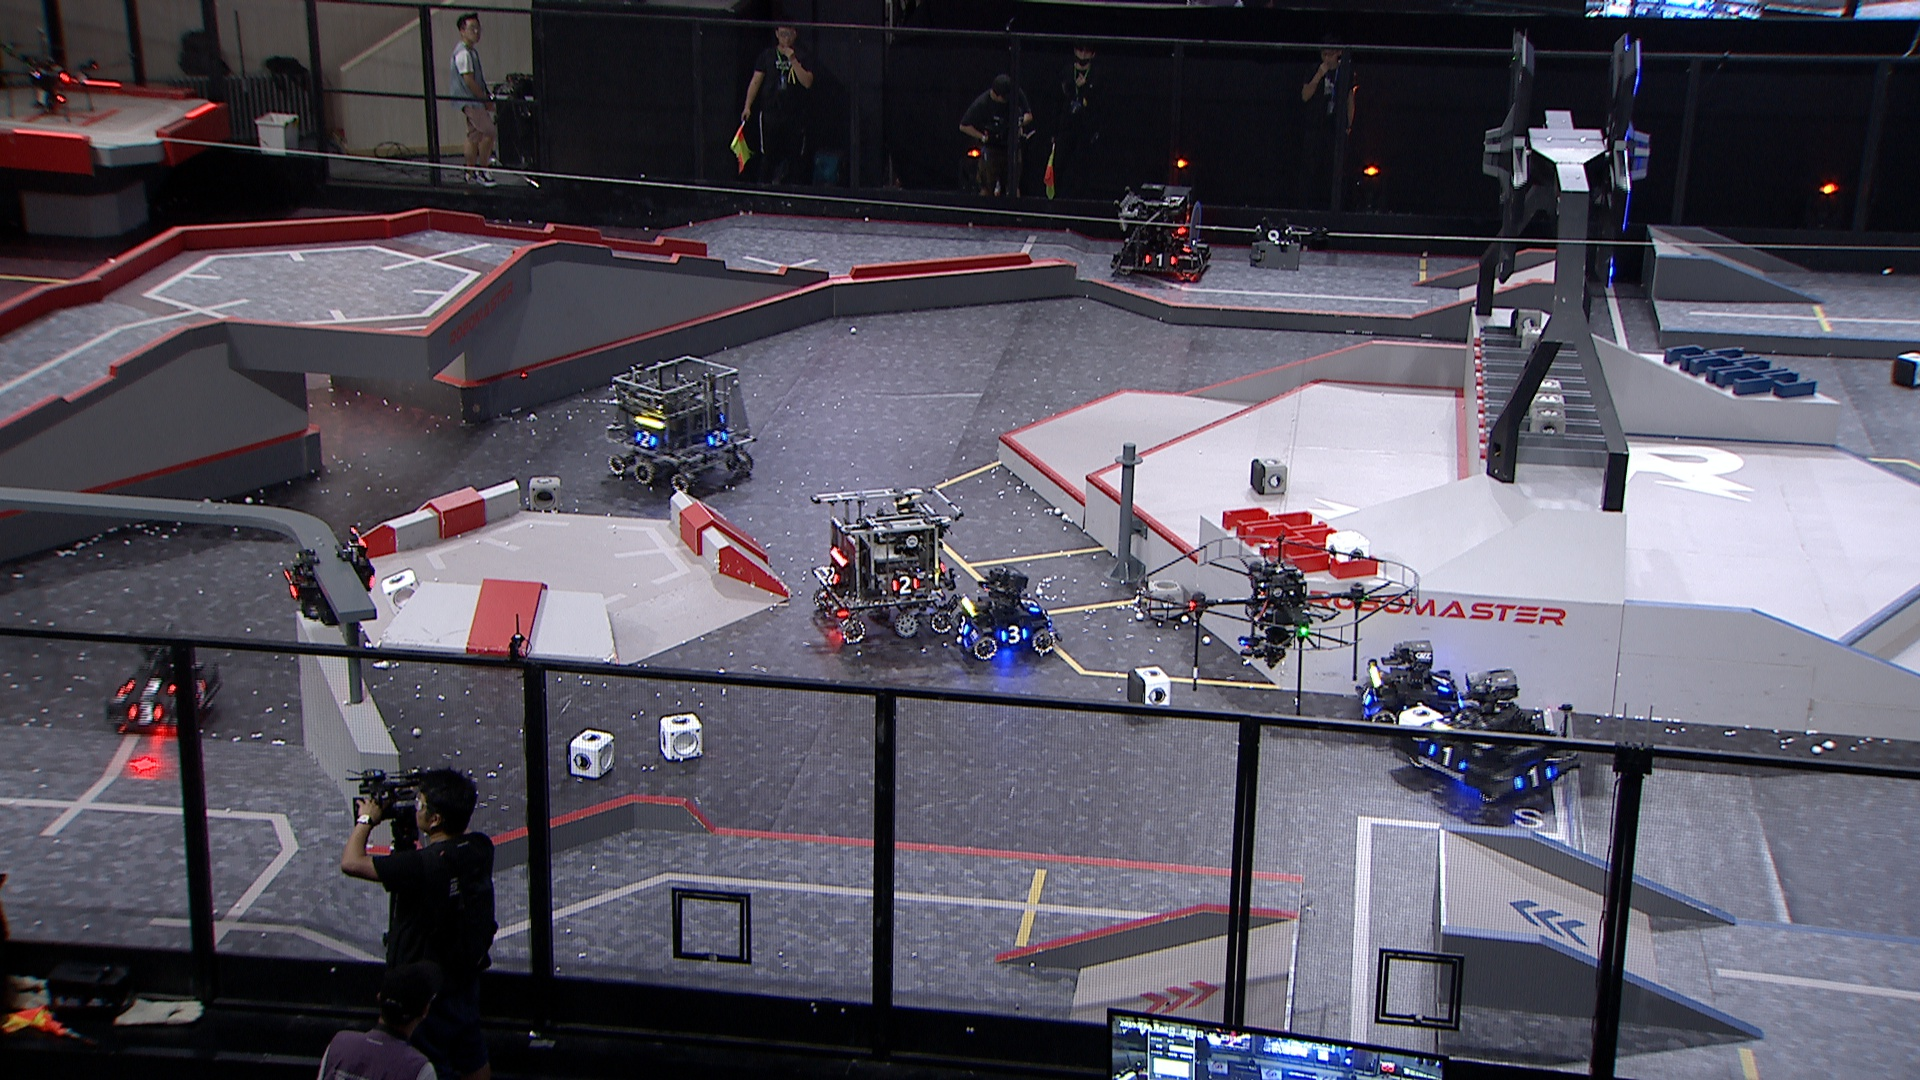armor: (1425, 740, 1468, 771), (123, 698, 164, 727), (123, 674, 178, 695), (1514, 764, 1557, 789), (887, 575, 920, 597), (1000, 626, 1030, 646), (281, 570, 301, 600), (1428, 669, 1451, 694), (1145, 252, 1178, 268), (633, 429, 657, 450), (193, 674, 210, 703), (1015, 593, 1040, 613), (704, 429, 731, 447), (953, 612, 972, 636), (823, 562, 841, 585), (1354, 684, 1373, 705), (1193, 249, 1211, 266)
car: (808, 483, 964, 644), (1404, 666, 1576, 806), (607, 353, 756, 491), (102, 636, 220, 738), (1353, 640, 1466, 742), (945, 564, 1063, 659), (1106, 183, 1215, 281)
watcher: (281, 524, 382, 626)
